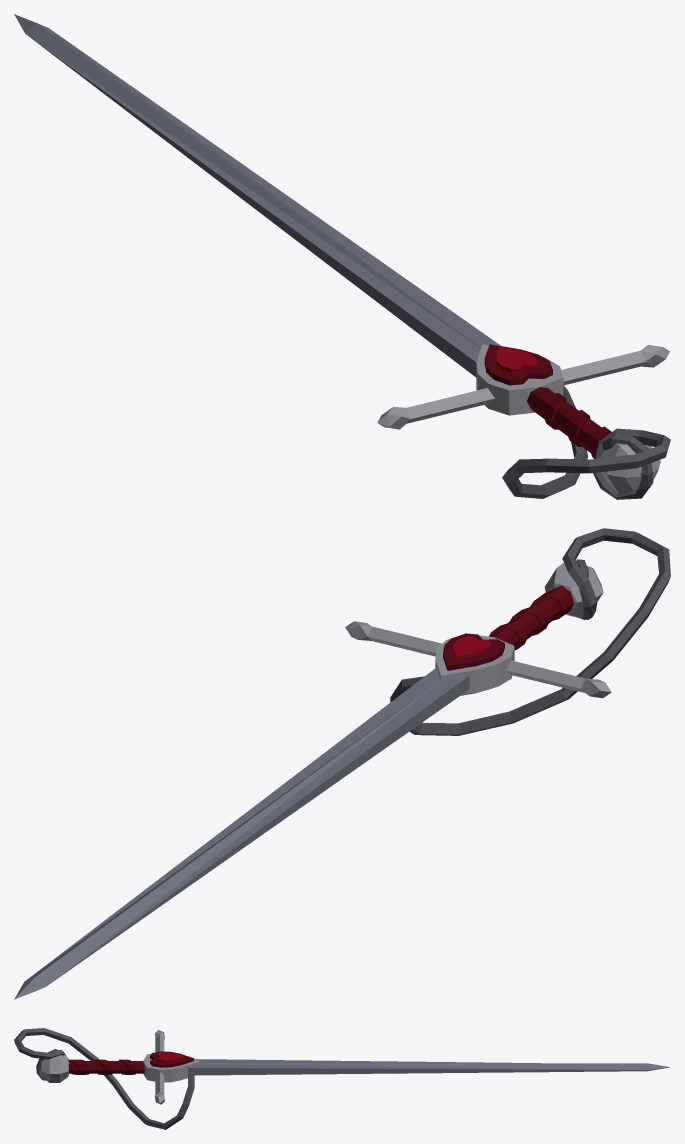
Rendered from sword_8.glb.
The picture shows the model from 3 angles, top to bottom: view 1: azimuth 30°, elevation 25°; view 2: azimuth 150°, elevation 25°; view 3: azimuth 270°, elevation 25°; orthographic projection. The views are drawn at different scales.
Visible parts, largest first — view 1: sword_8; view 2: sword_8; view 3: sword_8.
Part boxes in pixels (x1=…): sword_8: x1=14, y1=14, x2=670, y2=499; sword_8: x1=14, y1=528, x2=670, y2=999; sword_8: x1=14, y1=1028, x2=669, y2=1129.
Size of the model in its own units: 0.2697 by 0.127 by 1.05.
1 material, 1 textured.
